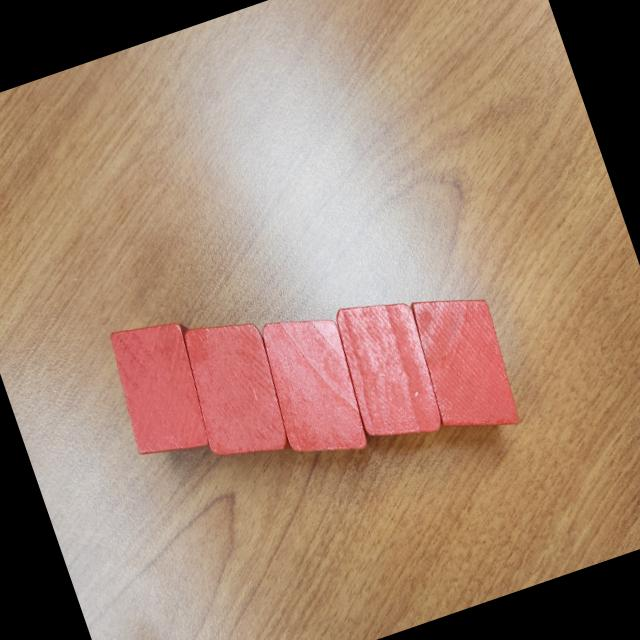red: (248, 301, 379, 474), (324, 285, 454, 454), (400, 278, 528, 448), (171, 306, 300, 472), (98, 308, 226, 468)
